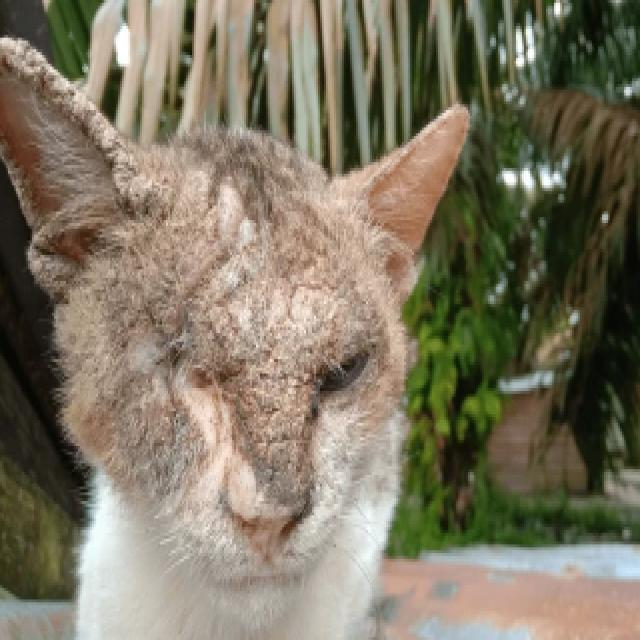Mange: (5, 34, 138, 195), (236, 334, 322, 466), (177, 320, 224, 400), (31, 243, 78, 300), (216, 188, 250, 246)
